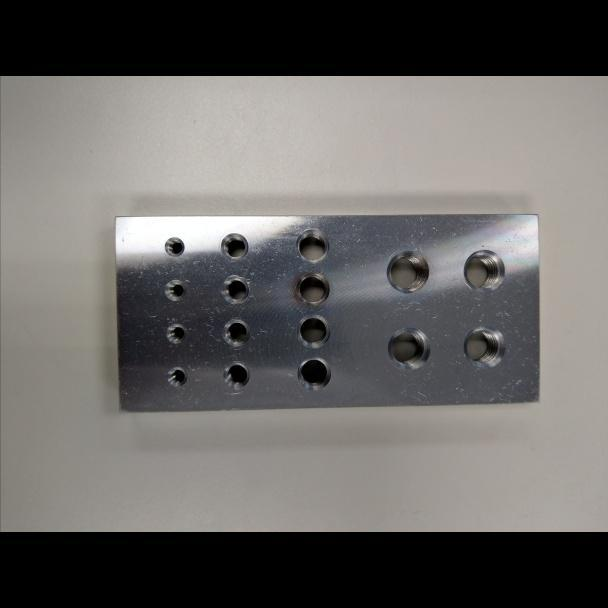hole: (386, 326, 431, 371), (462, 324, 506, 370), (385, 250, 429, 296), (462, 249, 505, 293), (294, 227, 330, 264), (296, 356, 332, 392), (296, 313, 331, 350), (294, 271, 330, 305), (221, 317, 251, 348), (220, 231, 249, 261), (221, 361, 251, 390), (221, 275, 250, 304), (163, 278, 187, 302), (165, 365, 188, 388), (163, 236, 185, 259), (165, 322, 187, 344)
